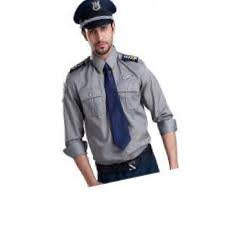uniform: (35, 3, 202, 167)
